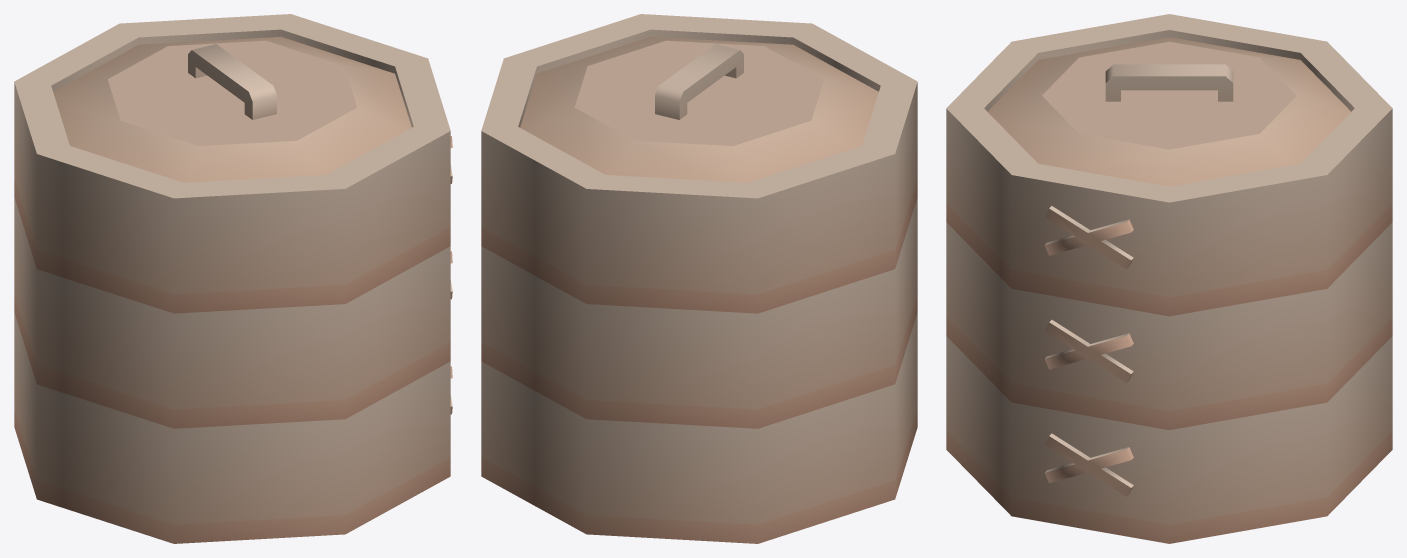
Rendered from steamer.glb.
3 views of the same model, side by side, from view 1: azimuth 30°, elevation 25°; view 2: azimuth 150°, elevation 25°; view 3: azimuth 270°, elevation 25° (orthographic).
Parts seen in each view (by area): view 1: steamer; view 2: steamer; view 3: steamer.
Part boxes in pixels (x1,y1,x2,y2): steamer: [14, 14, 452, 543]; steamer: [481, 14, 917, 543]; steamer: [946, 14, 1392, 543].
Size of the model in its own units: 0.64 by 0.6 by 0.64.
